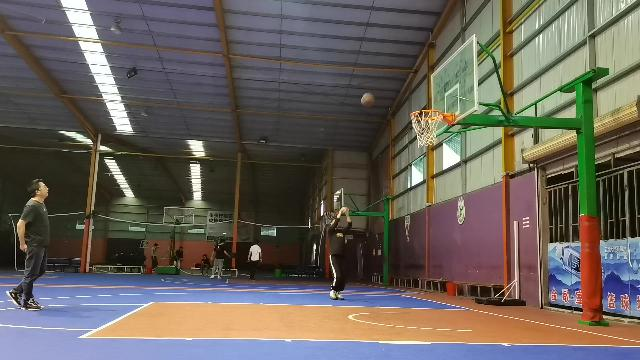ball: (360, 93, 376, 108)
basket: (410, 109, 444, 147), (324, 210, 336, 224)
